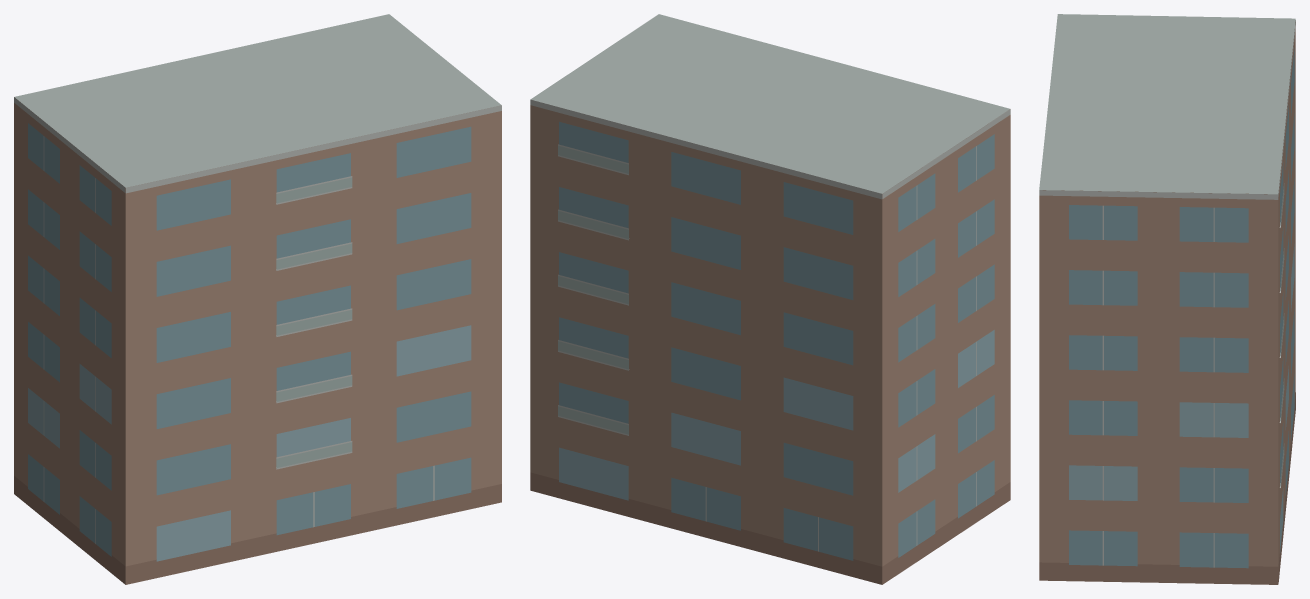
File: survey-upis-32659749.glb
The picture shows the model from 3 angles, left to right: view 1: azimuth 30°, elevation 25°; view 2: azimuth 150°, elevation 25°; view 3: azimuth 270°, elevation 25°; orthographic projection.
Visible parts, largest first — view 1: survey-upis-32659749.tmp; view 2: survey-upis-32659749.tmp; view 3: survey-upis-32659749.tmp.
Boxes of the visible parts, bbox=[...] form: survey-upis-32659749.tmp: bbox=[14, 14, 501, 584]; survey-upis-32659749.tmp: bbox=[530, 14, 1010, 584]; survey-upis-32659749.tmp: bbox=[1039, 14, 1295, 584].
Size of the model in its own units: 16.94 by 17.1 by 10.2.
